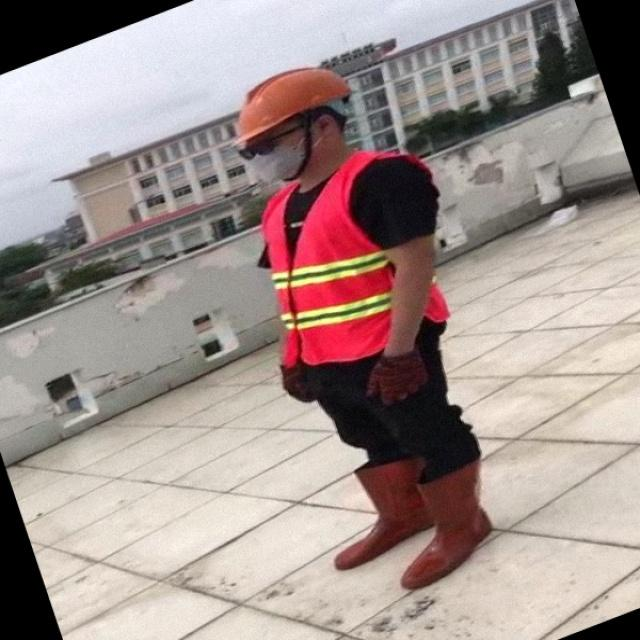Capacete: (236, 68, 350, 146)
Colete: (262, 151, 397, 365)
Oculos: (238, 125, 302, 160)
